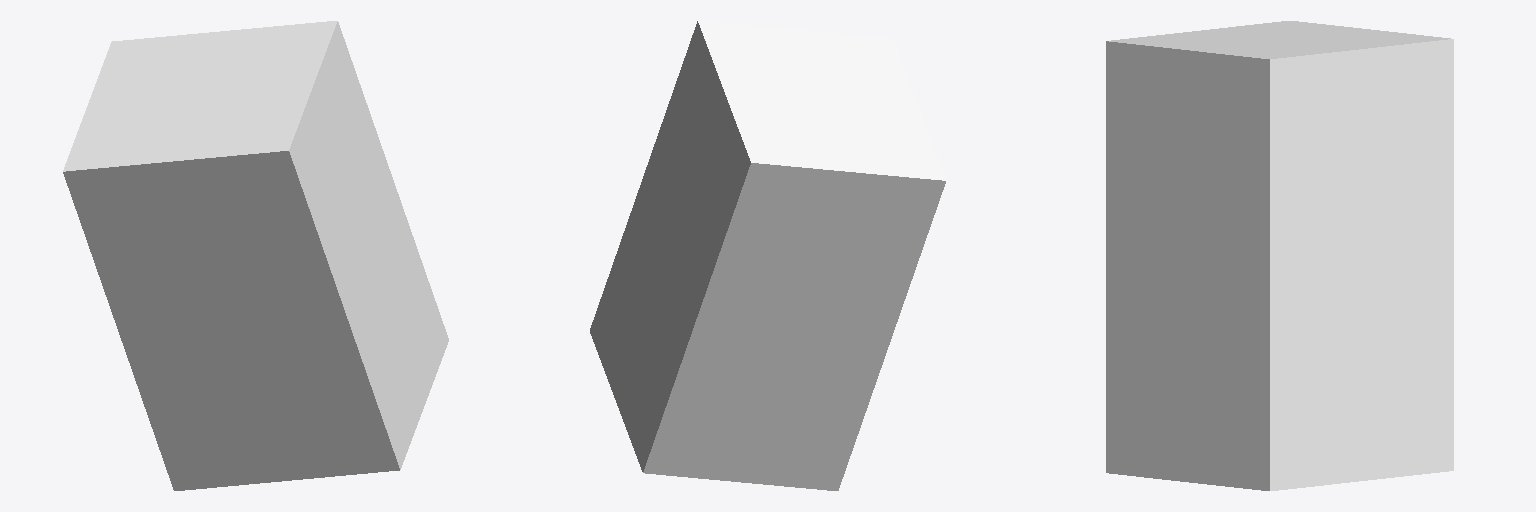
The robot description file, URDF, robot "panda":
<?xml version="1.0" ?>
<!-- =================================================================================== -->
<!-- |    This document was autogenerated by xacro from /opt/ros/kinetic/share/moveit_resources/panda_description/urdf/panda.urdf | -->
<!-- |    EDITING THIS FILE BY HAND IS NOT RECOMMENDED                                 | -->
<!-- =================================================================================== -->
<robot name="panda" xmlns:xacro="http://www.ros.org/wiki/xacro">
    <link name="panda_link0">
        <visual>
            <geometry>
                <mesh filename="package://franka_description/meshes/visual/link0.dae" />
            </geometry>
        </visual>
        <collision>
            <geometry>
                <mesh filename="package://franka_description/meshes/collision/link0.stl" />
            </geometry>
        </collision>
    </link>
    <link name="panda_link1">
        <visual>
            <geometry>
                <mesh filename="package://franka_description/meshes/visual/link1.dae" />
            </geometry>
        </visual>
        <collision>
            <geometry>
                <mesh filename="package://franka_description/meshes/collision/link1.stl" />
            </geometry>
        </collision>
    </link>
    <joint name="panda_joint1" type="revolute">
        <safety_controller k_position="100.0" k_velocity="40.0" soft_lower_limit="-2.8073" soft_upper_limit="2.8073" />
        <origin rpy="0 0 0" xyz="0 0 0.333" />
        <parent link="panda_link0" />
        <child link="panda_link1" />
        <axis xyz="0 0 1" />
        <limit effort="87" lower="-2.8073" upper="2.8073" velocity="2.3925" />
    </joint>
    <link name="panda_link2">
        <visual>
            <geometry>
                <mesh filename="package://franka_description/meshes/visual/link2.dae" />
            </geometry>
        </visual>
        <collision>
            <geometry>
                <mesh filename="package://franka_description/meshes/collision/link2.stl" />
            </geometry>
        </collision>
    </link>
    <joint name="panda_joint2" type="revolute">
        <safety_controller k_position="100.0" k_velocity="40.0" soft_lower_limit="-1.7028" soft_upper_limit="1.7028" />
        <origin rpy="-1.57079632679 0 0" xyz="0 0 0" />
        <parent link="panda_link1" />
        <child link="panda_link2" />
        <axis xyz="0 0 1" />
        <limit effort="87" lower="-1.7028" upper="1.7028" velocity="2.3925" />
    </joint>
    <link name="panda_link3">
        <visual>
            <geometry>
                <mesh filename="package://franka_description/meshes/visual/link3.dae" />
            </geometry>
        </visual>
        <collision>
            <geometry>
                <mesh filename="package://franka_description/meshes/collision/link3.stl" />
            </geometry>
        </collision>
    </link>
    <joint name="panda_joint3" type="revolute">
        <safety_controller k_position="100.0" k_velocity="40.0" soft_lower_limit="-2.8073" soft_upper_limit="2.8073" />
        <origin rpy="1.57079632679 0 0" xyz="0 -0.316 0" />
        <parent link="panda_link2" />
        <child link="panda_link3" />
        <axis xyz="0 0 1" />
        <limit effort="87" lower="-2.8073" upper="2.8073" velocity="2.3925" />
    </joint>
    <link name="panda_link4">
        <visual>
            <geometry>
                <mesh filename="package://franka_description/meshes/visual/link4.dae" />
            </geometry>
        </visual>
        <collision>
            <geometry>
                <mesh filename="package://franka_description/meshes/collision/link4.stl" />
            </geometry>
        </collision>
    </link>
    <joint name="panda_joint4" type="revolute">
        <safety_controller k_position="100.0" k_velocity="40.0" soft_lower_limit="-3.0018" soft_upper_limit="-0.1298" />
        <origin rpy="1.57079632679 0 0" xyz="0.0825 0 0" />
        <parent link="panda_link3" />
        <child link="panda_link4" />
        <axis xyz="0 0 1" />
        <limit effort="87" lower="-3.0018" upper="-0.1298" velocity="2.3925" />
    </joint>
    <link name="panda_link5">
        <visual>
            <geometry>
                <mesh filename="package://franka_description/meshes/visual/link5.dae" />
            </geometry>
        </visual>
        <collision>
            <geometry>
                <mesh filename="package://franka_description/meshes/collision/link5.stl" />
            </geometry>
        </collision>
    </link>
    <joint name="panda_joint5" type="revolute">
        <safety_controller k_position="100.0" k_velocity="40.0" soft_lower_limit="-2.8073" soft_upper_limit="2.8073" />
        <origin rpy="-1.57079632679 0 0" xyz="-0.0825 0.384 0" />
        <parent link="panda_link4" />
        <child link="panda_link5" />
        <axis xyz="0 0 1" />
        <limit effort="12" lower="-2.8073" upper="2.8073" velocity="2.8710" />
    </joint>
    <link name="panda_link6">
        <visual>
            <geometry>
                <mesh filename="package://franka_description/meshes/visual/link6.dae" />
            </geometry>
        </visual>
        <collision>
            <geometry>
                <mesh filename="package://franka_description/meshes/collision/link6.stl" />
            </geometry>
        </collision>
    </link>
    <joint name="panda_joint6" type="revolute">
        <safety_controller k_position="100.0" k_velocity="40.0" soft_lower_limit="0.0775" soft_upper_limit="3.7025" />
        <origin rpy="1.57079632679 0 0" xyz="0 0 0" />
        <parent link="panda_link5" />
        <child link="panda_link6" />
        <axis xyz="0 0 1" />
        <limit effort="12" lower="0.0775" upper="3.7025" velocity="2.8710" />
    </joint>
    <link name="panda_link7">
        <visual>
            <geometry>
                <mesh filename="package://franka_description/meshes/visual/link7.dae" />
            </geometry>
        </visual>
        <collision>
            <geometry>
                <mesh filename="package://franka_description/meshes/collision/link7.stl" />
            </geometry>
        </collision>
    </link>
    <joint name="panda_joint7" type="revolute">
        <safety_controller k_position="100.0" k_velocity="40.0" soft_lower_limit="-2.8073" soft_upper_limit="2.8073" />
        <origin rpy="1.57079632679 0 0" xyz="0.088 0 0" />
        <parent link="panda_link6" />
        <child link="panda_link7" />
        <axis xyz="0 0 1" />
        <limit effort="12" lower="-2.8073" upper="2.8073" velocity="2.8710" />
    </joint>
    <link name="panda_link8" />
    <joint name="panda_joint8" type="fixed">
        <origin rpy="0 0 0" xyz="0 0 0.107" />
        <parent link="panda_link7" />
        <child link="panda_link8" />
        <axis xyz="0 0 0" />
    </joint>
    <joint name="panda_hand_joint" type="fixed">
        <parent link="panda_link8" />
        <child link="panda_hand" />
        <origin rpy="0 0 -0.785398163397" xyz="0 0 0" />
    </joint>
    <link name="panda_hand">
        <visual>
            <geometry>
                <mesh filename="package://franka_description/meshes/visual/hand.dae" />
            </geometry>
        </visual>
        <collision>
            <geometry>
                <mesh filename="package://franka_description/meshes/collision/hand.stl" />
            </geometry>
        </collision>
    </link>
    <link name="panda_leftfinger">
        <visual>
            <geometry>
                <mesh filename="package://franka_description/meshes/visual/finger.dae" />
            </geometry>
        </visual>
        <!-- <collision>
            <geometry>
                <mesh filename="package://franka_description/meshes/collision/finger.stl" />
            </geometry>
        </collision> -->
    </link>
    <link name="panda_rightfinger">
        <visual>
            <origin rpy="0 0 3.14159265359" xyz="0 0 0" />
            <geometry>
                <mesh filename="package://franka_description/meshes/visual/finger.dae" />
            </geometry>
        </visual>
        <!-- <collision>
            <origin rpy="0 0 3.14159265359" xyz="0 0 0" />
            <geometry>
                <mesh filename="package://franka_description/meshes/collision/finger.stl" />
            </geometry>
        </collision> -->
    </link>
    <joint name="panda_finger_joint1" type="prismatic">
        <parent link="panda_hand" />
        <child link="panda_leftfinger" />
        <origin rpy="0 0 0" xyz="0 0 0.0584" />
        <axis xyz="0 1 0" />
        <limit effort="20" lower="0.0" upper="0.04" velocity="0.2" />
    </joint>   
    <joint name="panda_finger_joint2" type="prismatic">
        <parent link="panda_hand" />
        <child link="panda_rightfinger" />
        <origin rpy="0 0 0" xyz="0 0 0.0584" />
        <axis xyz="0 -1 0" />
        <limit effort="20" lower="0.0" upper="0.04" velocity="0.2" />
        <mimic joint="panda_finger_joint1" />
    </joint>

    <link name="panda_rightfinger_square">
        <visual>
            <origin rpy="0 0 0" xyz="0 0 0" />
            <geometry>
                <box size="0.016 0.009 0.03" />
            </geometry>
            <material name="Cyan">
                <color rgba="1.0 1.0 1.0 1.0"/>
             </material>
        </visual>
        <collision>
            <origin rpy="0 0 0" xyz="0 0 0" />
            <geometry>
                <box size="0.016 0.009 0.03" />
            </geometry>
        </collision>
    </link>
    <joint name="rightfinger_joint" type="fixed">
        <origin rpy="0 0 0" xyz="0 -0.0045 0.0688"/>
        <parent link="panda_rightfinger"/>
        <child link="panda_rightfinger_square"/>
        <axis xyz="0 0 1"/>
    </joint> 

    <link name="panda_leftfinger_square">
        <visual>
            <origin rpy="0 0 0" xyz="0 0 0" />
            <geometry>
                <box size="0.016 0.009 0.03" />
            </geometry>
            <material name="Cyan">
               <color rgba="1.0 1.0 1.0 1.0"/>
            </material>
        </visual>
        <collision>
            <origin rpy="0 0 0" xyz="0 0 0" />
            <geometry>
                <box size="0.016 0.009 0.03" />
            </geometry>
        </collision>
    </link>
    <joint name="leftfinger_joint" type="fixed">
        <origin rpy="0 0 0" xyz="0 0.0045 0.0688"/>
        <parent link="panda_leftfinger"/>
        <child link="panda_leftfinger_square"/>
        <axis xyz="0 0 1"/>
    </joint> 
      <!-- grasping frame -->
      <!-- 0.1034 wrt hand is center of gripper, 0.0088 offset to 4 sides-->
    <link name="tcp"/>
    <!-- <joint name="tcp_joint" type="fixed">
        <origin rpy="0 0 0" xyz="0 0 0.1034"/>
        <parent link="panda_hand"/>
        <child link="tcp"/>
        <axis xyz="0 0 1"/>
    </joint> -->
    <!-- <joint name="tcp_joint" type="fixed">
        <origin rpy="0 0 0" xyz="0 0 0.1122"/>
        <parent link="panda_hand"/>
        <child link="tcp"/>
        <axis xyz="0 0 1"/>
    </joint> -->
    <!-- 0.011 offset for the screw, for hend-eye calib usage -->
    <!-- <joint name="tcp_joint" type="fixed">
        <origin rpy="0 0 0" xyz="0 0 0.1232"/>
        <parent link="panda_hand"/>
        <child link="tcp"/>
        <axis xyz="0 0 1"/>
    </joint> -->
    <!-- 0.058 offset for the new gripper -->
    <joint name="tcp_joint" type="fixed">
        <origin rpy="0 0 0" xyz="0 0 0.1702"/>
        <parent link="panda_hand"/>
        <child link="tcp"/>
        <axis xyz="0 0 1"/>
    </joint> 

</robot>

--- Facts derived from the render (not from the file) ---
3 views of the same robot in one strip: view 1: azimuth 30°, elevation 25°; view 2: azimuth 150°, elevation 25°; view 3: azimuth 270°, elevation 25° (orthographic).
Model panda with 15 links and 14 joints (7 revolute, 2 prismatic, 5 fixed), rooted at panda_link0, posed all joints at 0 but 2 set to mid-range because 0 is outside their limits (panda_joint4 = -1.57, panda_joint6 = 1.89).
Links seen in each view (by area): view 1: panda_leftfinger_square, panda_rightfinger_square; view 2: panda_rightfinger_square, panda_leftfinger_square; view 3: panda_leftfinger_square, panda_rightfinger_square.
Link boxes in pixels (x1,y1,x2,y2): panda_leftfinger_square: (176,21,448,480); panda_rightfinger_square: (63,31,286,490); panda_rightfinger_square: (616,92,945,490); panda_leftfinger_square: (590,21,919,400); panda_leftfinger_square: (1106,31,1361,490); panda_rightfinger_square: (1201,21,1453,480).
Size in the robot's own frame: 0.0323 by 0.024 by 0.0361 metres.
Meshes: 10 distinct files referenced, 0 mesh visuals loaded (none loaded); not drawn: 11 (reference not matched to a file when rendering).